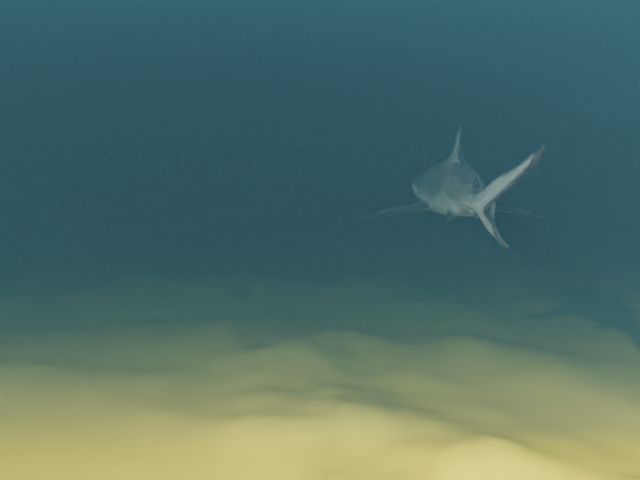Carribean Shark.001: (362, 124, 546, 247)
